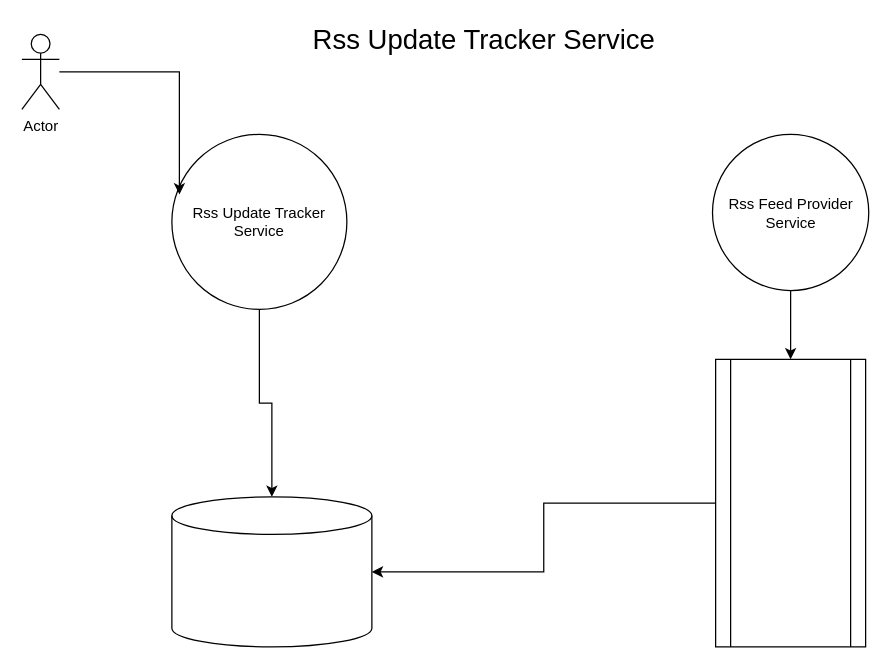
The diagram is 891 pixels wide and 669 high, and some of its shapes have lost their labels. Each missing label, with the centre of its shape:
Daily Job Feed Content Reader: point (790, 502)
H2 Database: point (271, 571)
